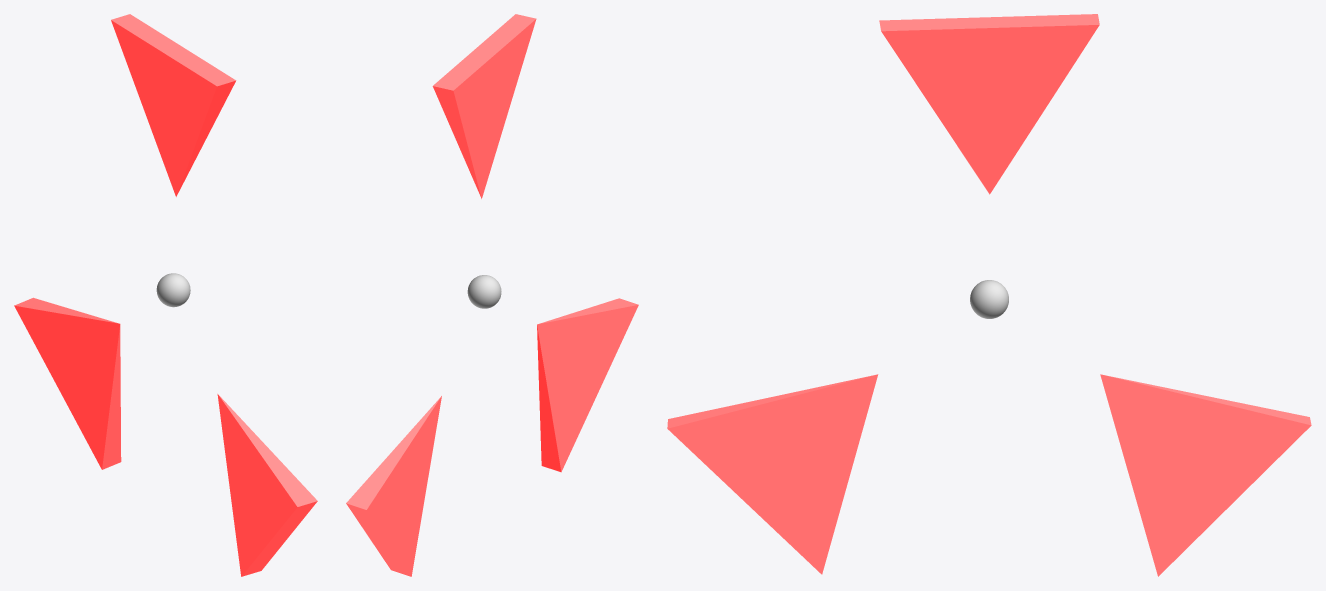
File: crosshair.FBX
The picture shows the model from 3 angles, left to right: view 1: azimuth 30°, elevation 25°; view 2: azimuth 150°, elevation 25°; view 3: azimuth 270°, elevation 25°; orthographic projection. The views are drawn at different scales.
Visible parts, largest first — view 1: Pyramid003, Pyramid001, Pyramid002, Sphere001; view 2: Pyramid002, Pyramid003, Pyramid001, Sphere001; view 3: Pyramid001, Pyramid002, Pyramid003, Sphere001.
Part boxes in pixels (x1,y1,x2,y2): Pyramid003: (111,14,236,196); Pyramid001: (14,297,121,469); Pyramid002: (217,394,317,576); Sphere001: (156,273,190,307); Pyramid002: (537,298,638,472); Pyramid003: (432,14,536,198); Pyramid001: (346,396,441,576); Sphere001: (467,275,501,308); Pyramid001: (1100,374,1311,576); Pyramid002: (667,374,878,574); Pyramid003: (879,14,1099,194); Sphere001: (970,280,1008,318).
Size of the model in its own units: 3.38 by 36.95 by 39.53.
